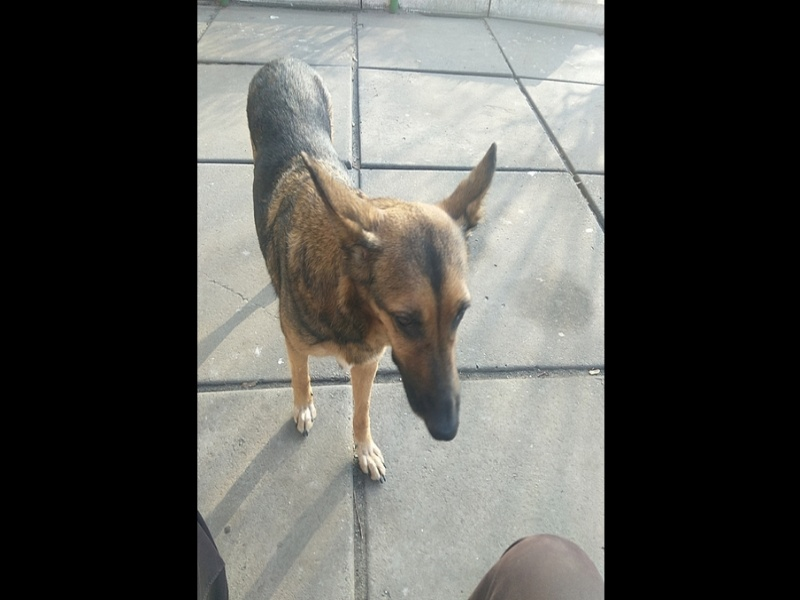dog: (240, 50, 503, 505)
